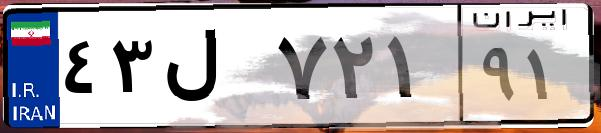1: (385, 28, 445, 110), (525, 38, 570, 115)
2: (330, 28, 385, 110)
3: (110, 28, 158, 98)
4: (57, 26, 110, 100)
7: (270, 28, 330, 110)
9: (475, 38, 525, 113)
ل: (158, 20, 270, 120)
